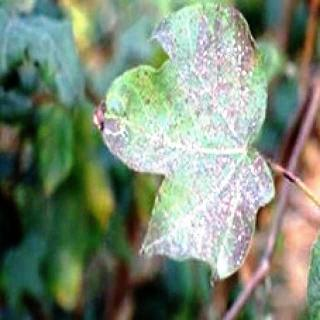grey mildew: (91, 4, 292, 288)
